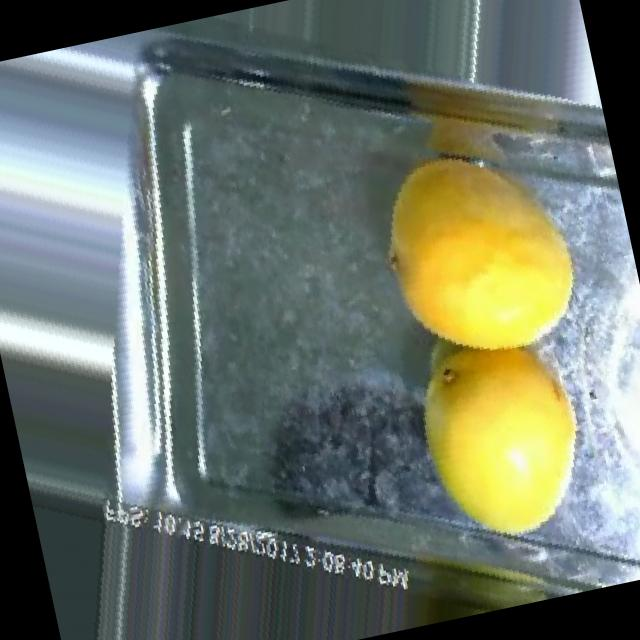fruit: (310, 92, 639, 426), (353, 291, 640, 586)
